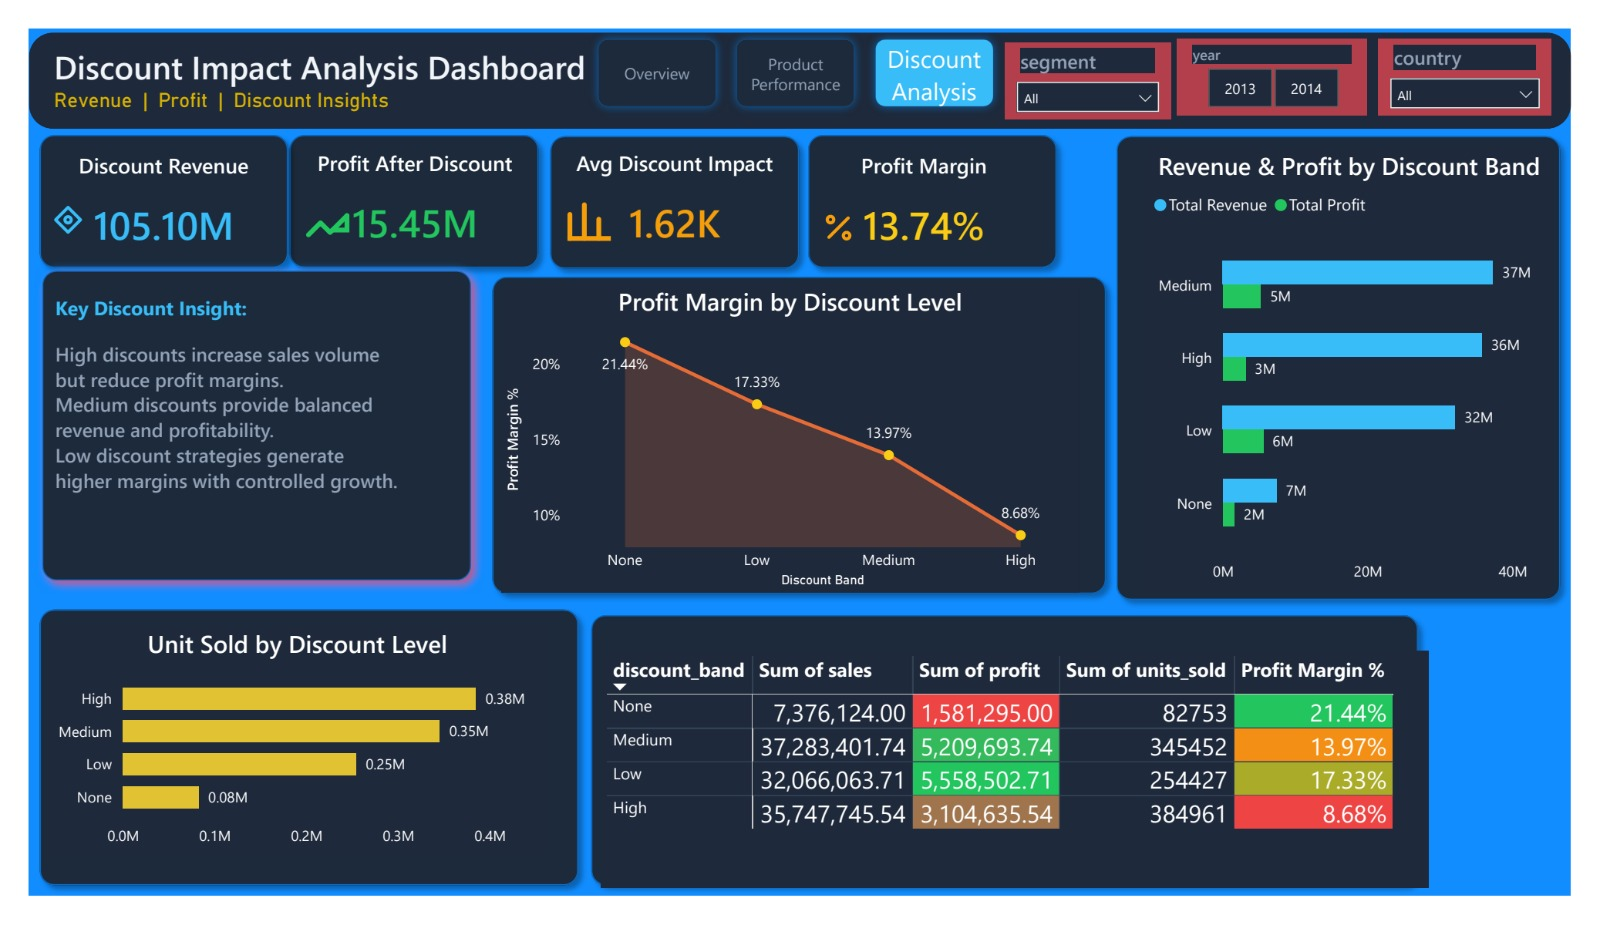

Layout of this report page (visuals, bound fields, positions):
{"tool":"powerbi","page":{"name":"Discount Analysis","canvas":[1280,720],"ordinal":2},"visuals":[{"type":"shape","box":[0,201.1,128.4,518.9],"z":0},{"type":"shape","box":[576.4,496.5,703.8,223.5],"z":1000},{"type":"shape","box":[912.1,79.9,368.1,431.8],"z":2000},{"type":"shape","box":[400.4,208.3,511.7,296.3],"z":3000},{"type":"shape","box":[128.4,495.6,454.3,224.4],"z":4000},{"type":"shape","box":[229.3,80,224,128],"z":5000},{"type":"shape","box":[458.7,80,224,128],"z":6000},{"type":"shape","box":[688,80,224,128],"z":7000},{"type":"shape","box":[0,80,224,128],"z":8000},{"type":"shape","box":[0,2.7,1280,79.9],"z":9000},{"type":"textbox","box":[16.2,0,458.8,79.9],"z":10000},{"type":"slicer","fields":{"Values":["financial_dashboard_view.year"]},"box":[757.7,8.1,224,64],"z":11000},{"type":"slicer","fields":{"Values":["financial_dashboard_view.segment"]},"box":[511.7,8.1,224,64],"z":12000},{"type":"slicer","fields":{"Values":["financial_dashboard_view.country"]},"box":[992.9,8.1,224,64],"z":13000},{"type":"cardVisual","title":"Profit Margin","fields":{"Data":["financial_dashboard_view.Profit Margin %"]},"box":[704,96,192,96],"z":14000},{"type":"cardVisual","title":"Discount Revenue","fields":{"Data":["financial_dashboard_view.Total Discount Revenue"]},"box":[16,96,192,96],"z":15000},{"type":"cardVisual","title":"Profit After Discount","fields":{"Data":["financial_dashboard_view.Profit After Discount"]},"box":[247.8,95.2,192.1,96.1],"z":16000},{"type":"cardVisual","title":"Avg Discount Impact","fields":{"Data":["financial_dashboard_view.Avg Discount Impact"]},"box":[474.9,96.1,192,96],"z":17000},{"type":"clusteredBarChart","title":"Revenue & Profit by Discount Band","fields":{"Category":["financial_dashboard_view.discount_band"],"Y":["financial_dashboard_view.Total Revenue","financial_dashboard_view.Total Profit"]},"box":[928.3,98.8,335.8,384.2],"z":18000},{"type":"lineChart","title":"Profit Margin by Discount Level","fields":{"Category":["financial_dashboard_view.discount_band"],"Y":["financial_dashboard_view.Profit Margin %"]},"box":[416,224,480,256],"z":19000},{"type":"clusteredBarChart","title":"Unit Sold by Discount Level","fields":{"Category":["financial_dashboard_view.discount_band"],"Y":["Sum(financial_dashboard_view.units_sold)"]},"box":[144,512,416,192],"z":20000},{"type":"pivotTable","fields":{"Rows":["financial_dashboard_view.discount_band"],"Values":["Sum(financial_dashboard_view.sales)","Sum(financial_dashboard_view.profit)","Sum(financial_dashboard_view.units_sold)","financial_dashboard_view.Profit Margin %"]},"box":[591.6,526.1,672.4,176],"z":21000},{"type":"pageNavigator","box":[16,224,96,480],"z":22000},{"type":"shape","box":[128.4,208.3,272,279.2],"z":23000},{"type":"textbox","box":[144,224,240,256],"z":24000},{"type":"image","box":[17.1,117.6,31.4,79.9],"z":25000},{"type":"image","box":[242.4,132.9,48.5,48.5],"z":26000},{"type":"image","box":[480.3,123,47.6,63.7],"z":27000},{"type":"image","box":[704,128,32,64],"z":28000}]}

Visuals, with their boxes in screenshot pixels (x1, y1, x2, y2), scaled from the page's 1280x720 canvas onto the 1600x925 screenshot:
shape: [0,258,160,924]
shape: [720,638,1599,924]
shape: [1140,103,1599,657]
shape: [500,268,1140,648]
shape: [160,637,728,924]
shape: [287,103,567,267]
shape: [573,103,853,267]
shape: [860,103,1140,267]
shape: [0,103,280,267]
shape: [0,3,1599,106]
textbox: [20,0,594,103]
slicer - financial_dashboard_view.year: [947,10,1227,93]
slicer - financial_dashboard_view.segment: [640,10,920,93]
slicer - financial_dashboard_view.country: [1241,10,1521,93]
"Profit Margin" cardVisual: [880,123,1120,247]
"Discount Revenue" cardVisual: [20,123,260,247]
"Profit After Discount" cardVisual: [310,122,550,246]
"Avg Discount Impact" cardVisual: [594,123,834,247]
"Revenue & Profit by Discount Band" clusteredBarChart: [1160,127,1580,621]
"Profit Margin by Discount Level" lineChart: [520,288,1120,617]
"Unit Sold by Discount Level" clusteredBarChart: [180,658,700,904]
pivotTable - financial_dashboard_view.discount_band x Sum(financial_dashboard_view.sales): [740,676,1580,902]
pageNavigator: [20,288,140,904]
shape: [160,268,500,626]
textbox: [180,288,480,617]
image: [21,151,61,254]
image: [303,171,364,233]
image: [600,158,660,240]
image: [880,164,920,247]
